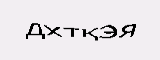Д: (19, 17, 45, 39)
Т: (60, 22, 79, 38)
Х: (42, 21, 62, 39)
Э: (99, 20, 118, 40)
Я: (119, 19, 136, 41)
Қ: (80, 25, 100, 40)
